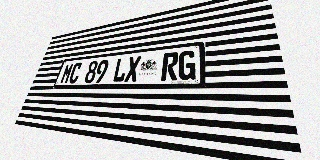8: (83, 60, 99, 83)
9: (93, 59, 110, 83)
C: (68, 62, 83, 84)
G: (177, 50, 196, 80)
L: (112, 57, 129, 82)
M: (59, 63, 74, 84)
R: (161, 52, 179, 81)
X: (124, 56, 141, 82)
